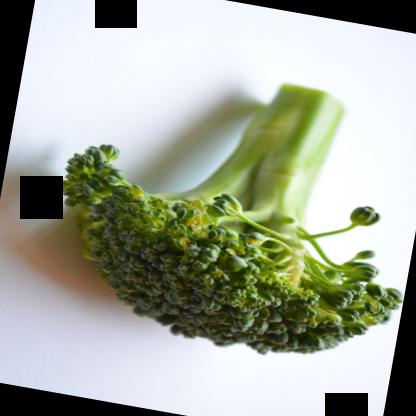broccoli: (28, 48, 415, 376)
